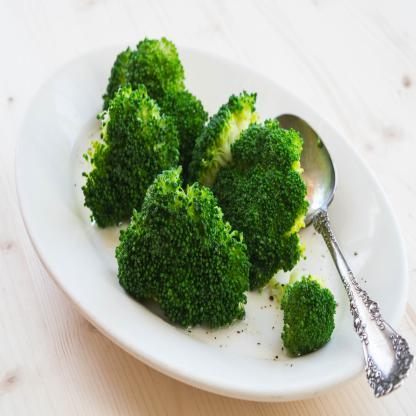broccoli: (78, 40, 340, 356)
